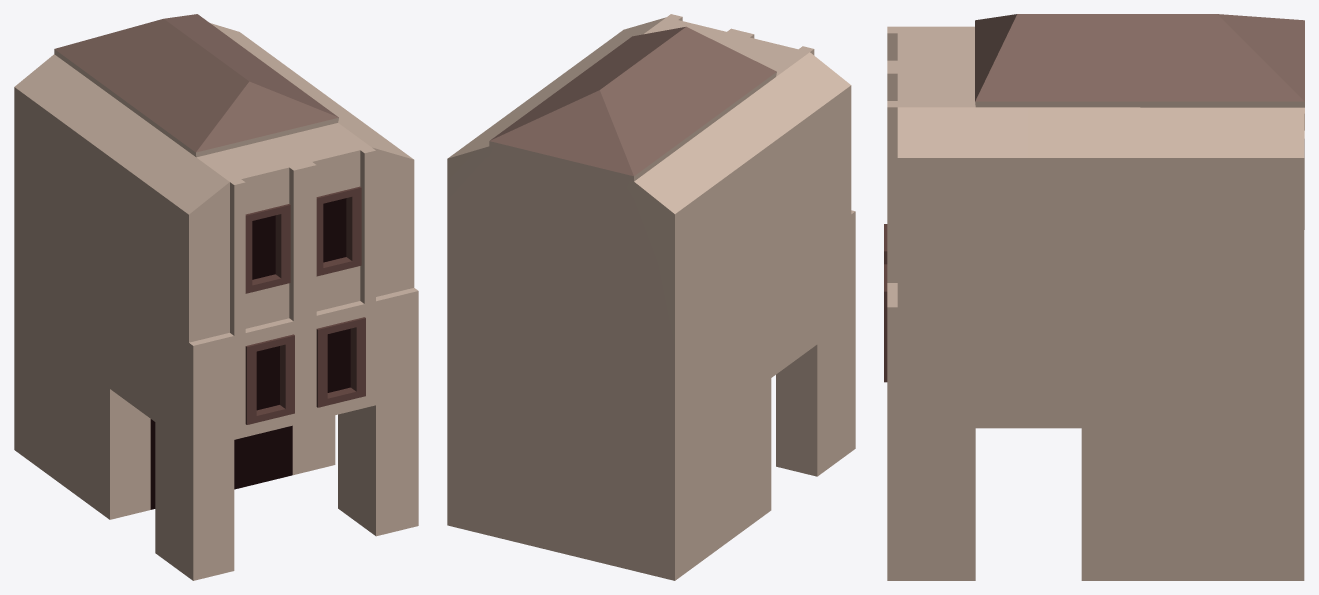
File: building_02.fbx
3 renders of one model, left to right at view 1: azimuth 30°, elevation 25°; view 2: azimuth 150°, elevation 25°; view 3: azimuth 270°, elevation 25°, orthographic. The views are drawn at different scales.
Parts seen in each view (by area): view 1: Cube.006; view 2: Cube.006; view 3: Cube.006.
Part boxes in pixels (<box>): Cube.006: <box>14,14,418,580</box>; Cube.006: <box>447,14,855,580</box>; Cube.006: <box>884,14,1304,580</box>.
Size of the model in its own units: 259 by 474 by 360.
